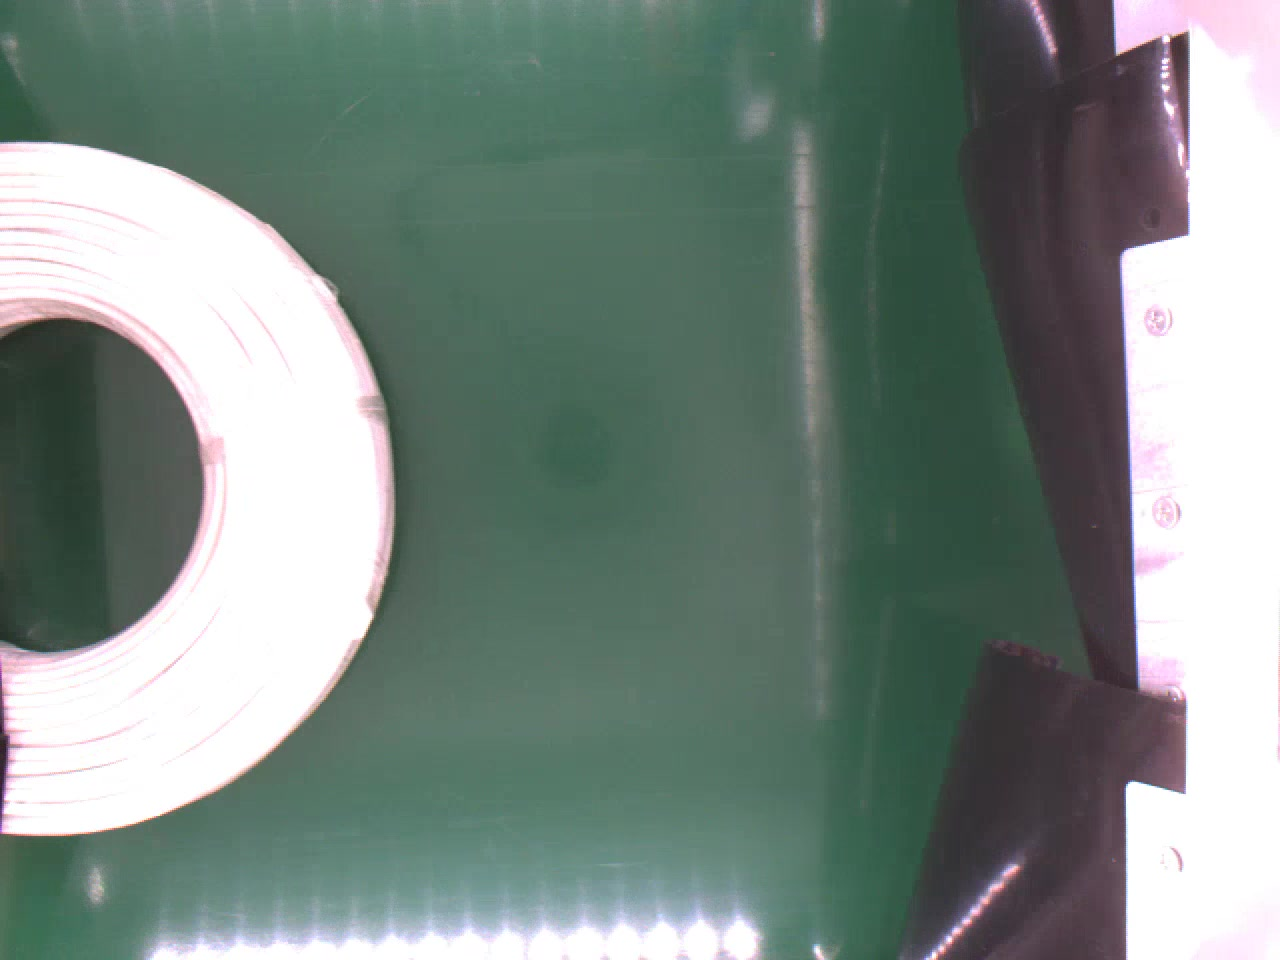white: (0, 135, 396, 839)
